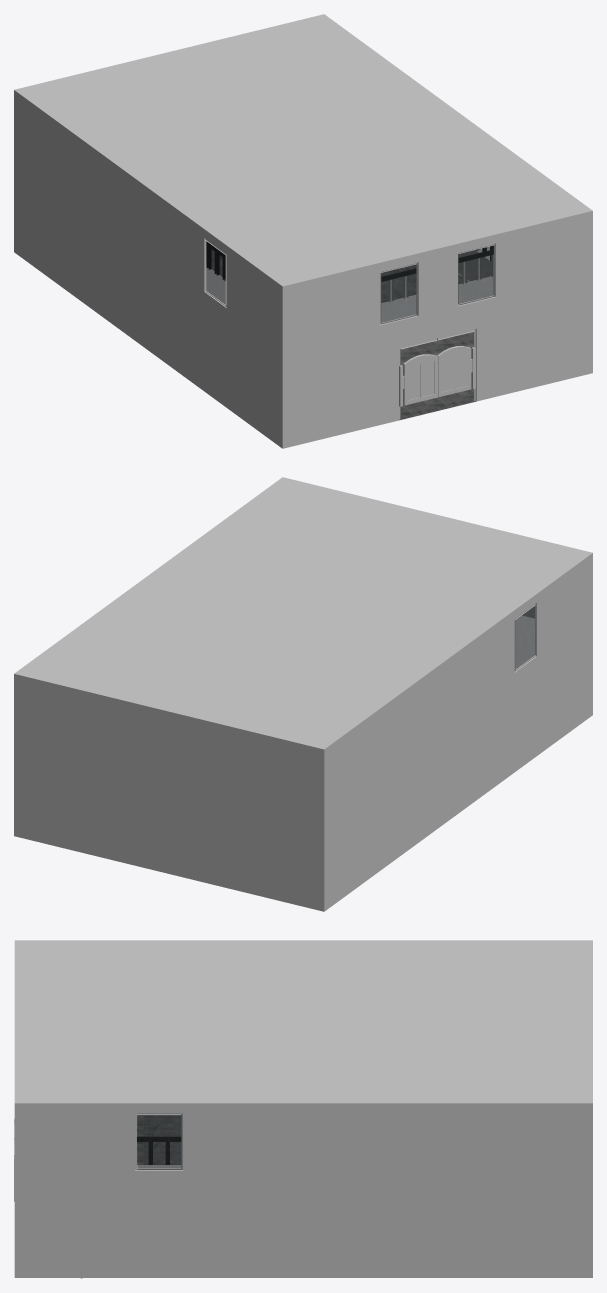
Rendered from 6Bullets Room.fbx.
3 views of the same model, one above another, from view 1: azimuth 30°, elevation 25°; view 2: azimuth 150°, elevation 25°; view 3: azimuth 270°, elevation 25° (orthographic). The views are drawn at different scales.
Parts seen in each view (by area): view 1: Roof, Walls, Window, Door, Mezanine, Floor, RightDoor, LeftDoor, Rail; view 2: Walls, Roof, Window, Mezanine; view 3: Roof, Walls, Window, Floor, Mezanine, Rail.
Part boxes in pixels (<box>): Roof: <box>14,14,592,286</box>; Walls: <box>14,90,592,448</box>; Window: <box>193,221,515,347</box>; Door: <box>360,311,515,429</box>; Mezanine: <box>60,204,512,368</box>; Floor: <box>206,246,476,420</box>; RightDoor: <box>403,354,437,405</box>; LeftDoor: <box>437,346,472,397</box>; Rail: <box>206,241,493,301</box>; Walls: <box>14,553,592,911</box>; Roof: <box>14,477,592,749</box>; Window: <box>503,586,548,698</box>; Mezanine: <box>49,615,592,831</box>; Roof: <box>14,940,592,1103</box>; Walls: <box>14,1103,592,1277</box>; Window: <box>111,1103,207,1190</box>; Floor: <box>137,1115,181,1164</box>; Mezanine: <box>64,1165,592,1191</box>; Rail: <box>137,1136,181,1164</box>.
Bounding box in the file's own units: 801 × 403 × 1201.
